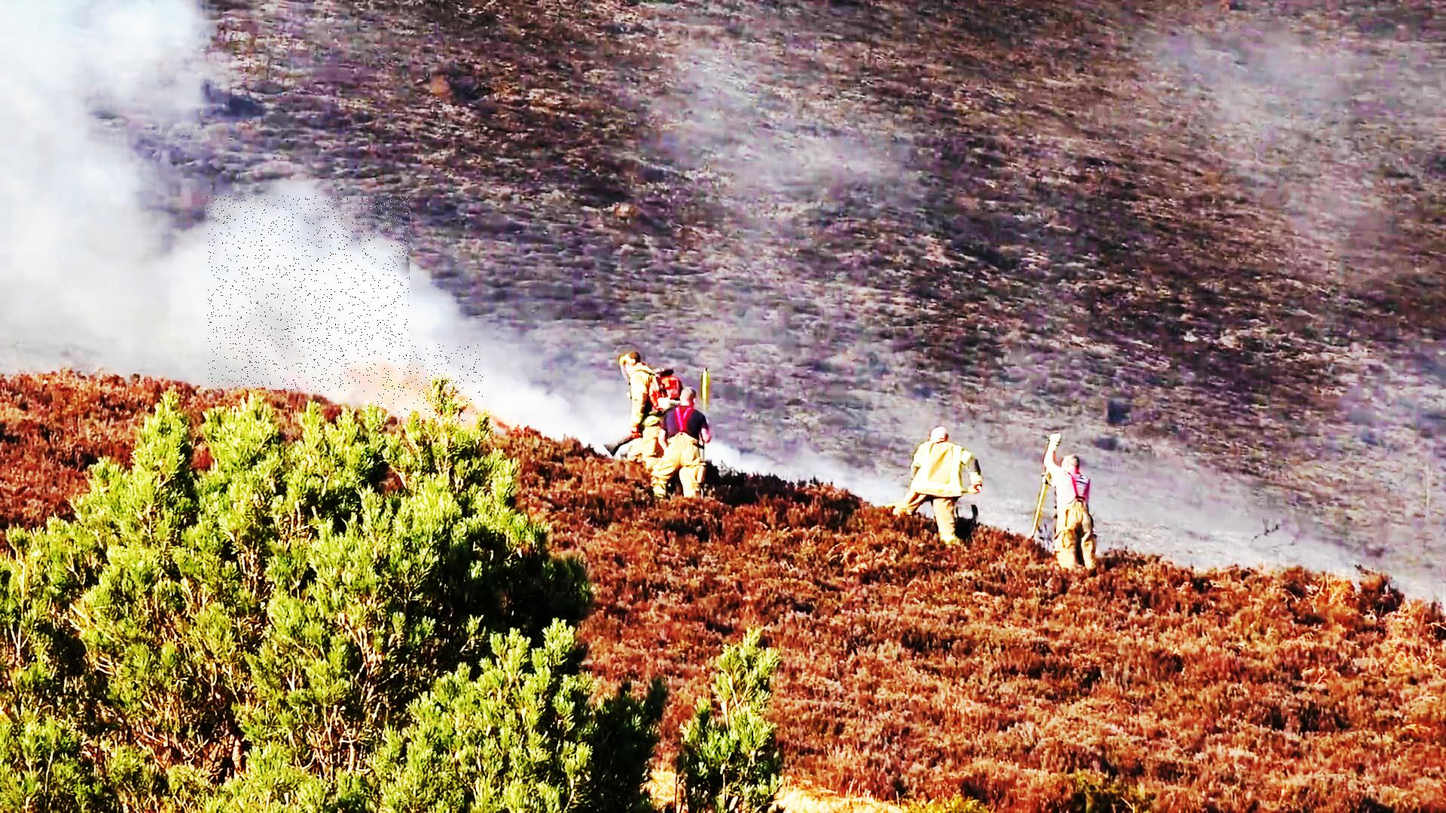fire: (364, 343, 483, 425)
smoke: (208, 196, 412, 392)
